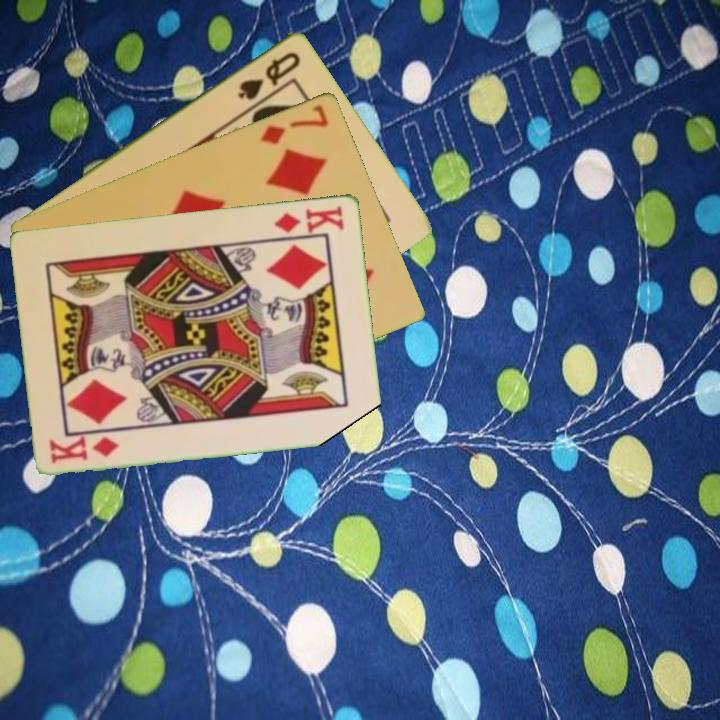7d: (257, 100, 332, 147)
Kd: (271, 202, 347, 236), (46, 432, 122, 466)
Qs: (234, 47, 304, 102)
